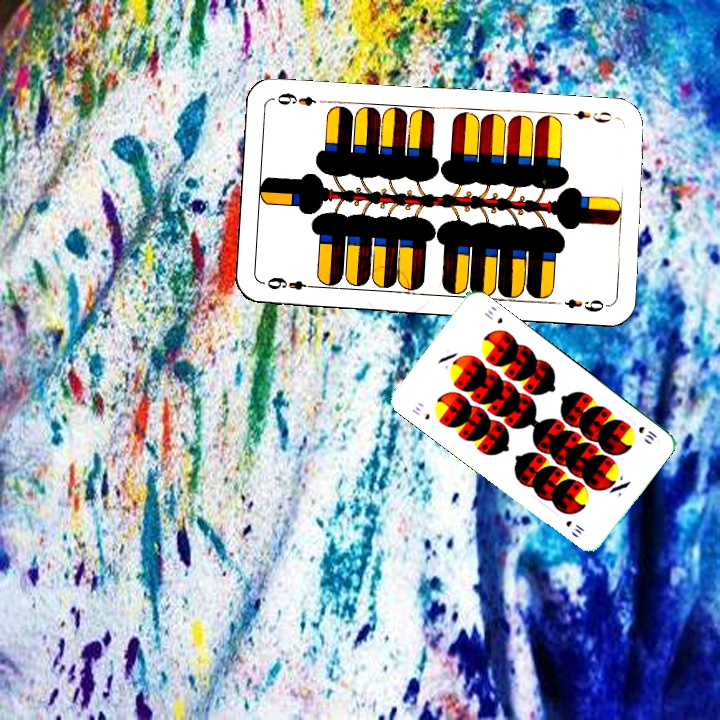E9: (561, 106, 620, 125), (263, 273, 319, 293)
S10: (634, 422, 660, 443), (408, 402, 433, 422)
